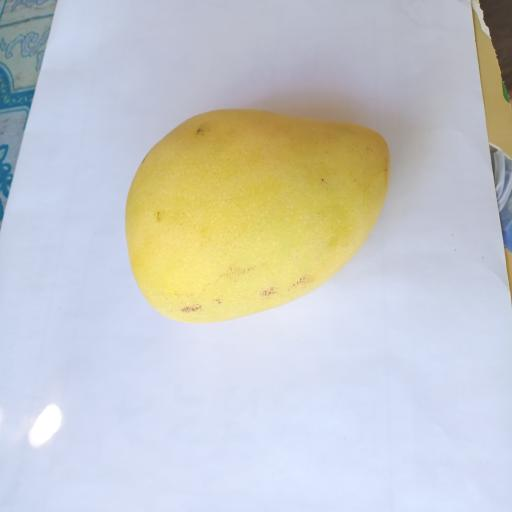mango-ripe: (102, 77, 402, 336)
